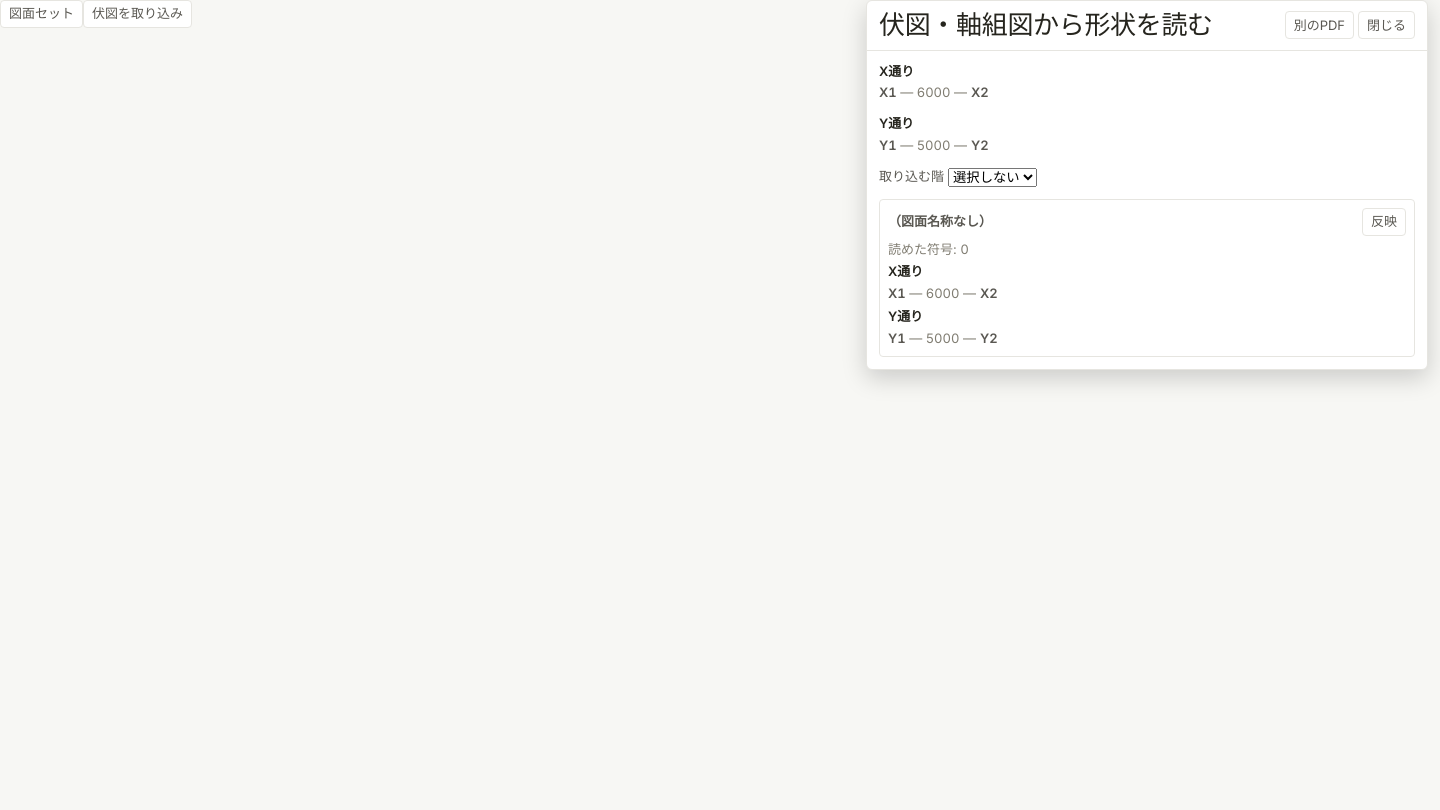
PlanImport › 기본 미선택 상태로 반영하면 階未指定 거부를 표시한다
Expected: the dropdown with test id "plan-import-story" shows "選択しない", 948,168 -> 1037,186
Click the button with test id "plan-import-apply-0".
click(1384, 222)  # box 1362,208 -> 1406,236
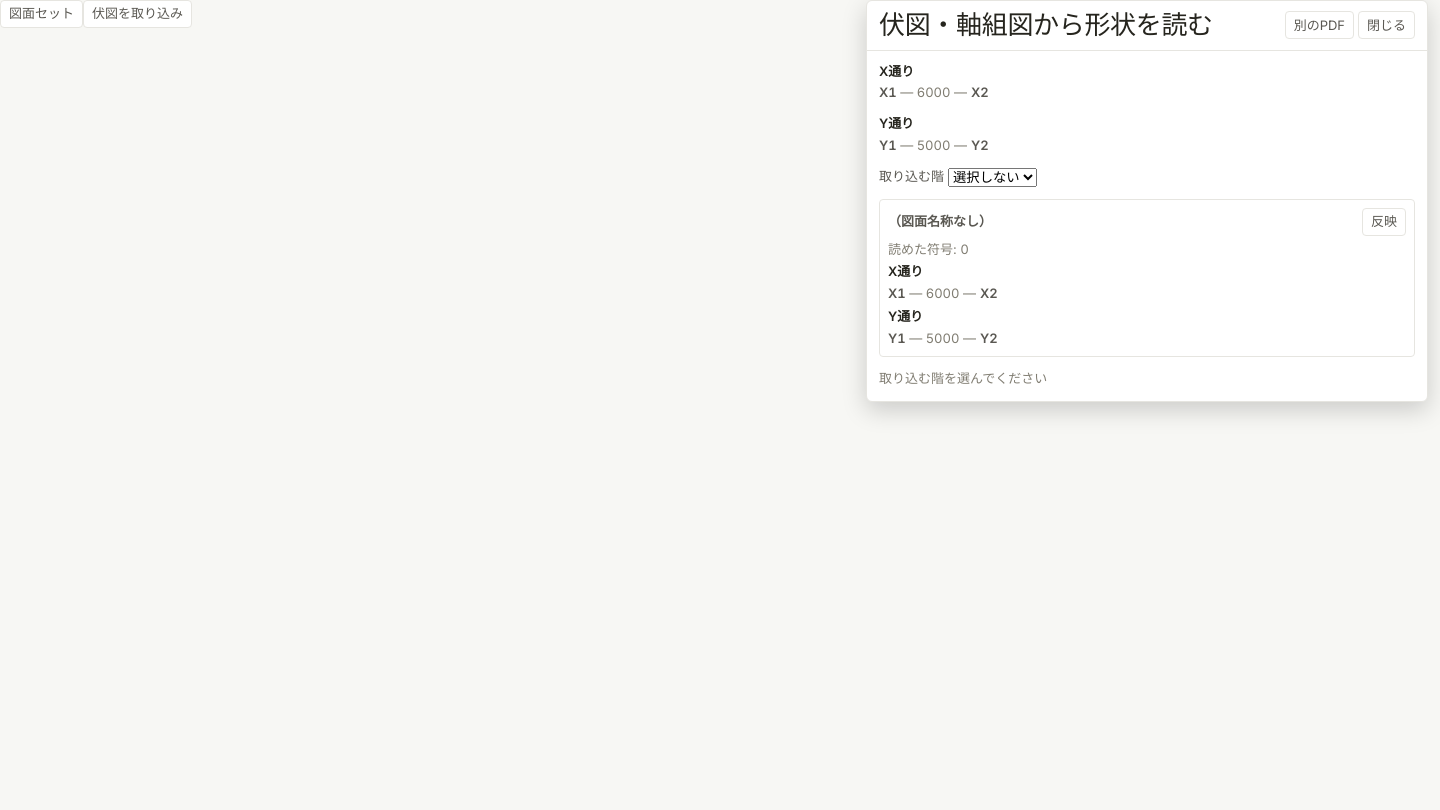
Expected: the text with test id "plan-import-result" reads "取り込む階を選んでください", 879,370 -> 1047,386
